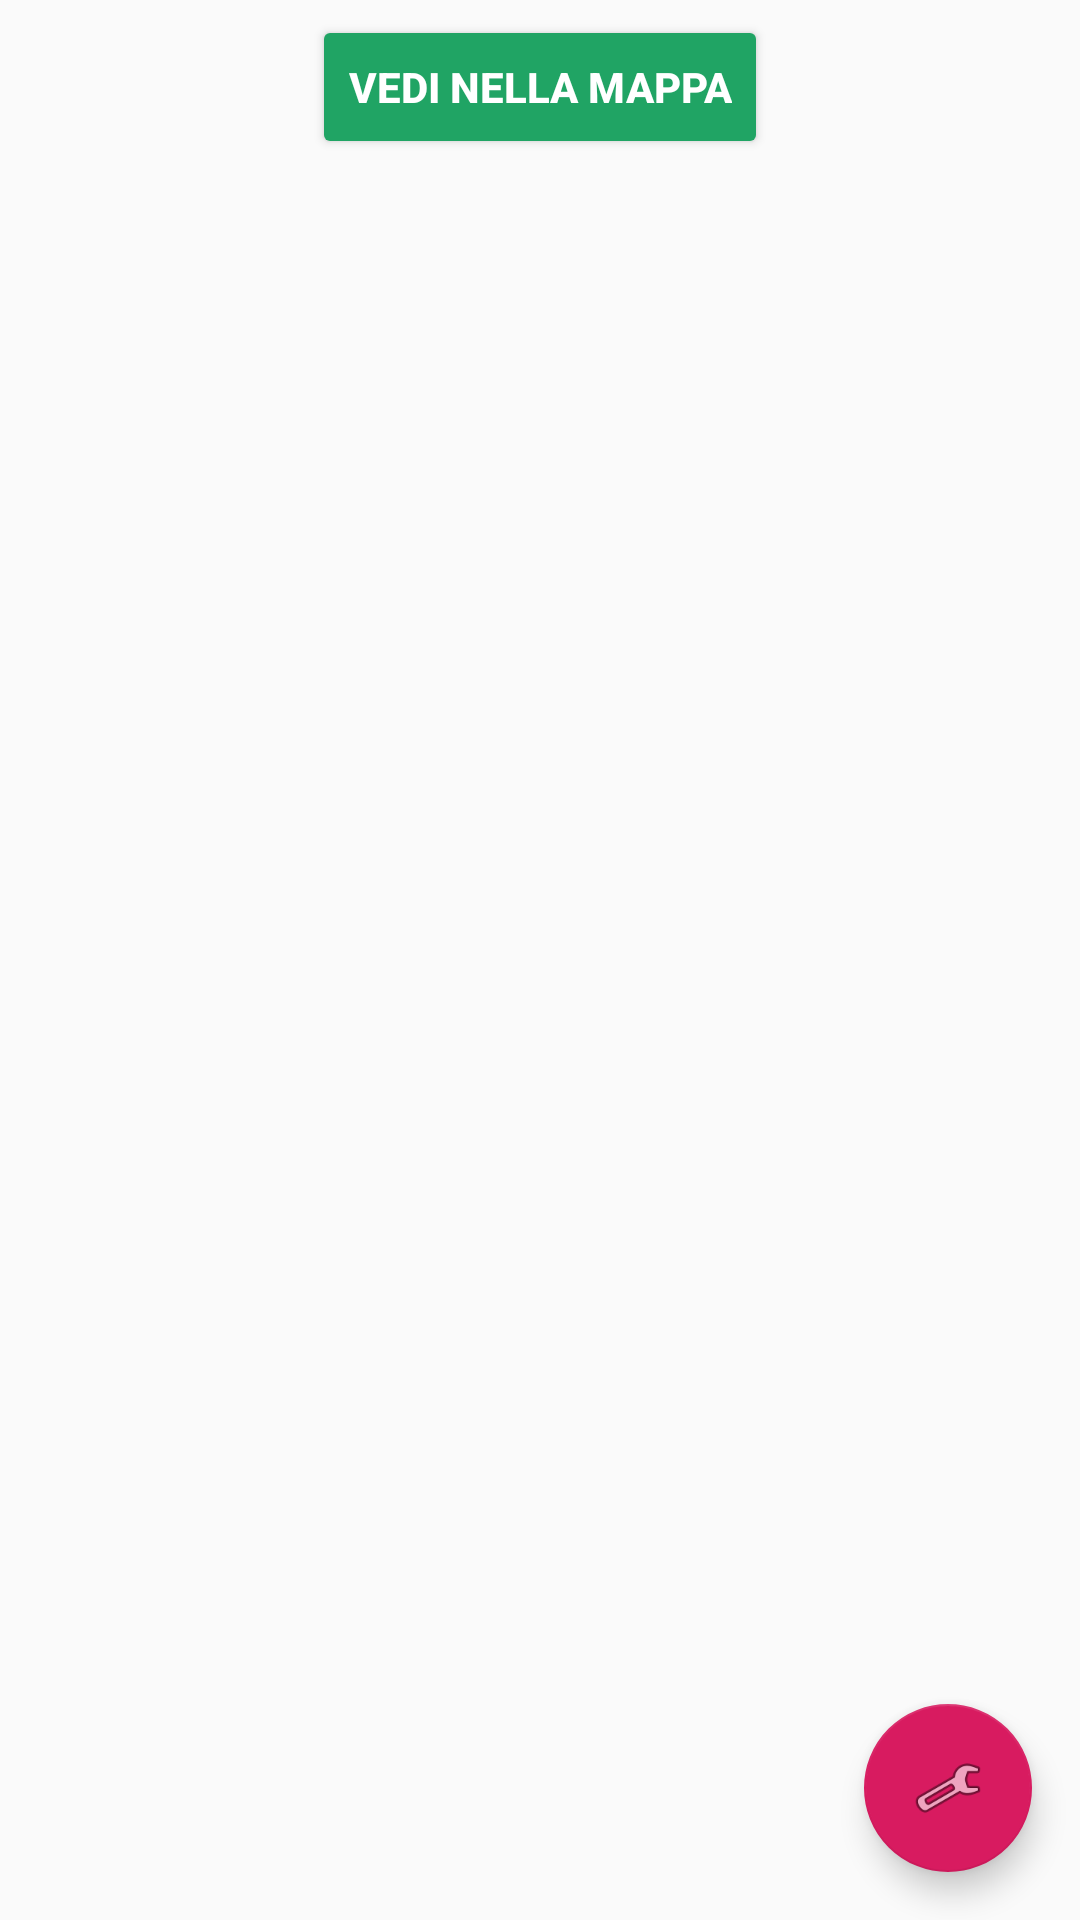

Icons on this 1080 x 1920 Android screen, each with the point to tap as [x,y]:
manage: [948,1788]
